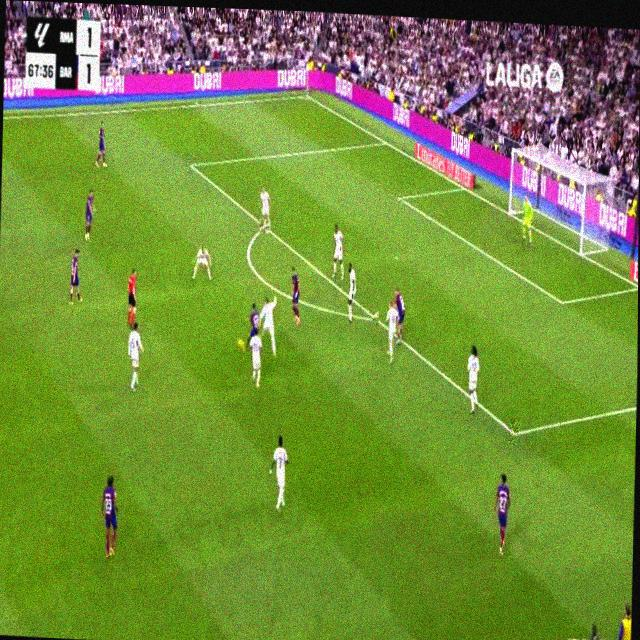bigarea_bottom_inner: (508, 418, 520, 447)
bigarea_top_inner: (186, 153, 196, 173)
bottom_arc_area_intersection: (372, 310, 378, 325)
corner: (302, 90, 310, 100)
smallarea_top_inner: (397, 191, 402, 203)
top_arc_area_intersection: (259, 219, 268, 233)
